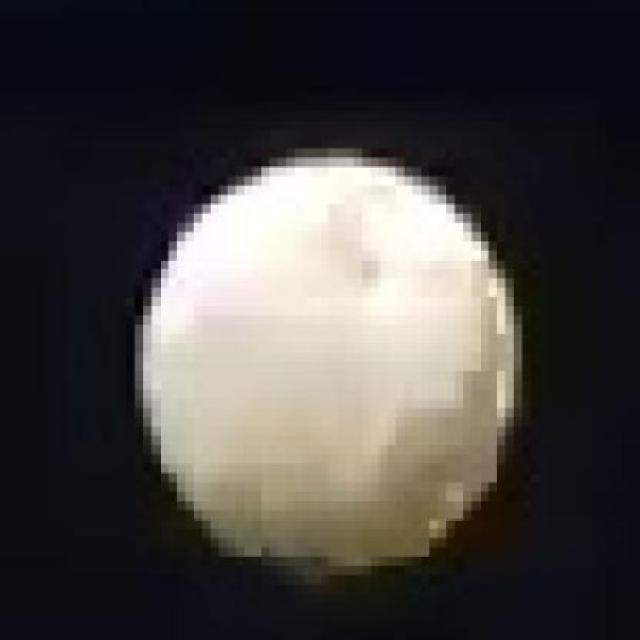Cricket ball: (130, 143, 529, 592)
